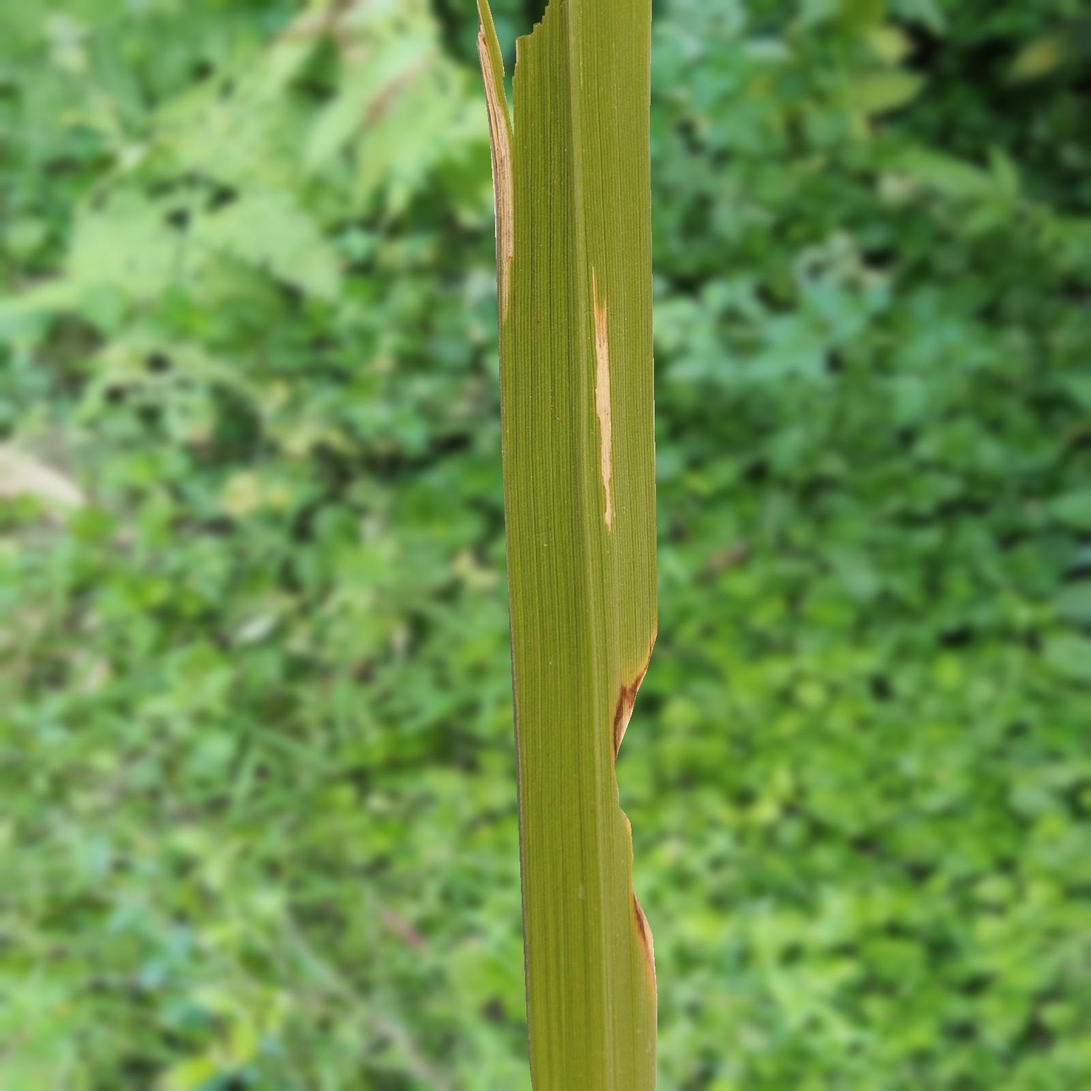BLS: (477, 0, 513, 322), (593, 267, 613, 531)
LEAF: (477, 0, 658, 1090)
